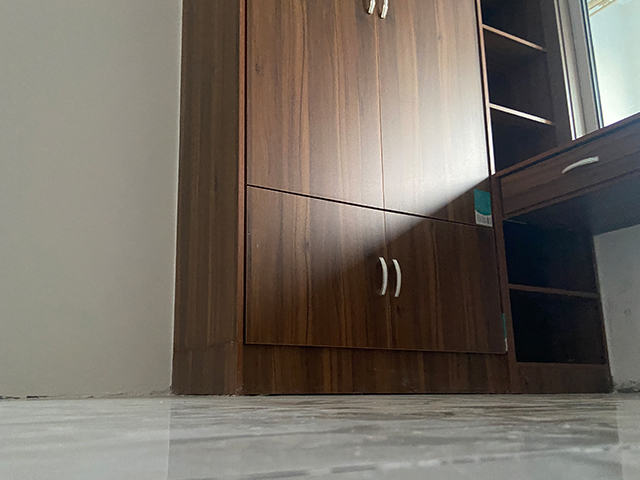cabinet: (169, 1, 505, 397)
